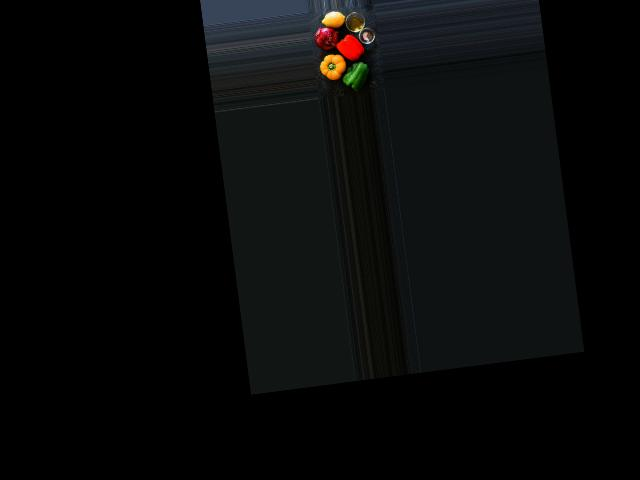bell_pepper: (334, 33, 366, 62)
